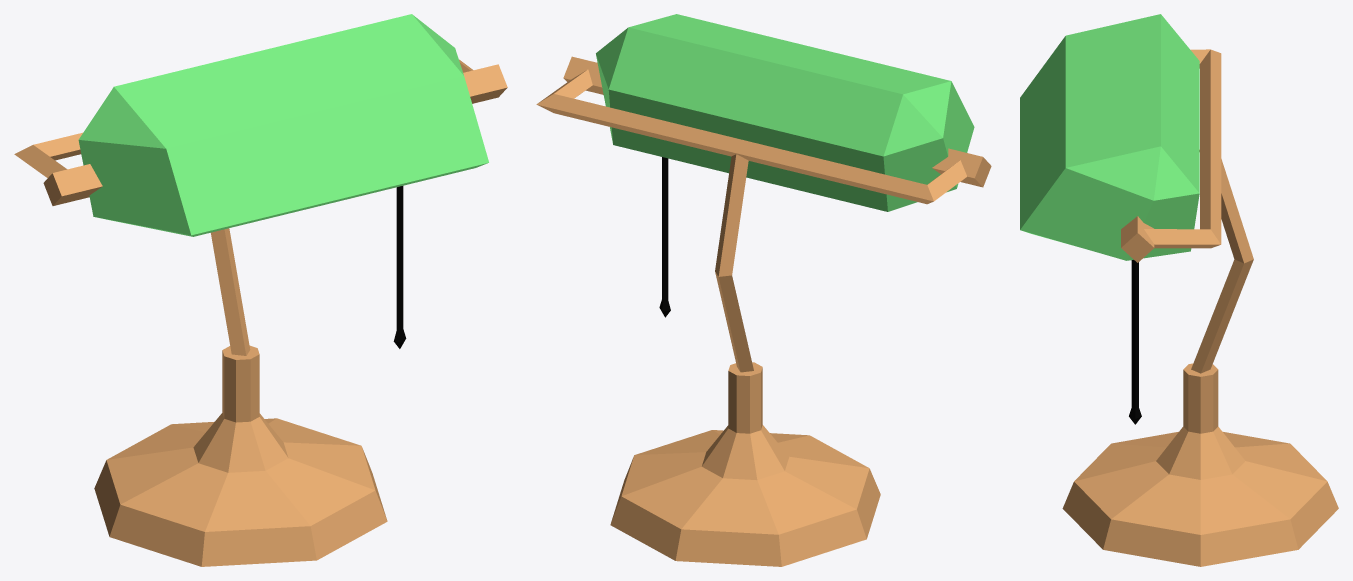
File: DeskLamp_01.fbx
The picture shows the model from 3 angles, left to right: view 1: azimuth 30°, elevation 25°; view 2: azimuth 150°, elevation 25°; view 3: azimuth 270°, elevation 25°; orthographic projection. The views are drawn at different scales.
Parts seen in each view (by area): view 1: SM_Prop_DeskLight_01; view 2: SM_Prop_DeskLight_01; view 3: SM_Prop_DeskLight_01.
Part boxes in pixels (x1=…): SM_Prop_DeskLight_01: x1=14, y1=14, x2=507, y2=566; SM_Prop_DeskLight_01: x1=536, y1=14, x2=991, y2=566; SM_Prop_DeskLight_01: x1=1020, y1=14, x2=1338, y2=566.
Size of the model in its own units: 0.5485 by 0.5531 by 0.3732.
